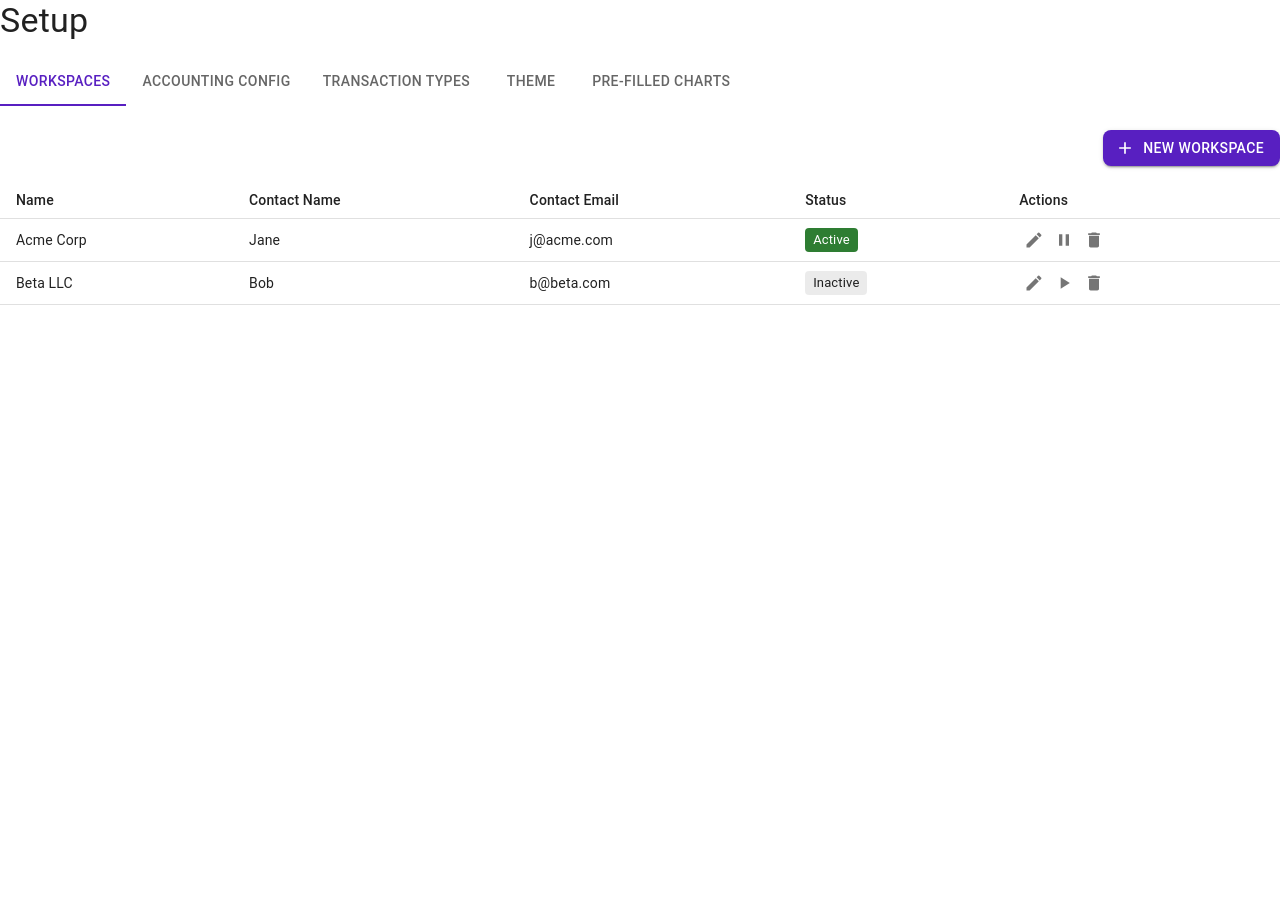
SetupPage — Workspaces tab › opens delete confirm dialog when Delete is clicked
Click the button with test id "delete-workspace-t-1": (1094, 240) [1079, 226, 1109, 256]
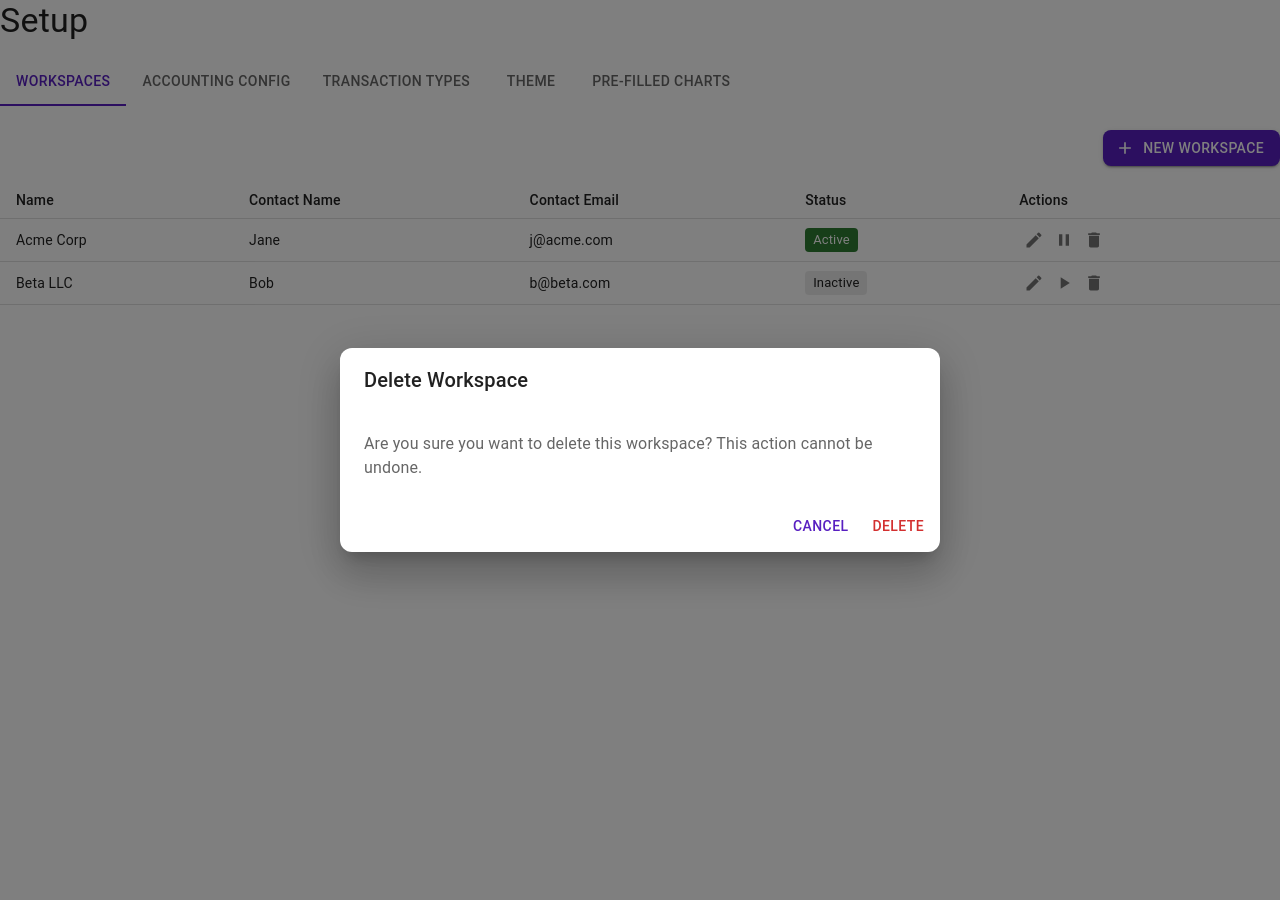
Check: the element with test id "delete-workspace-dialog" is shown
